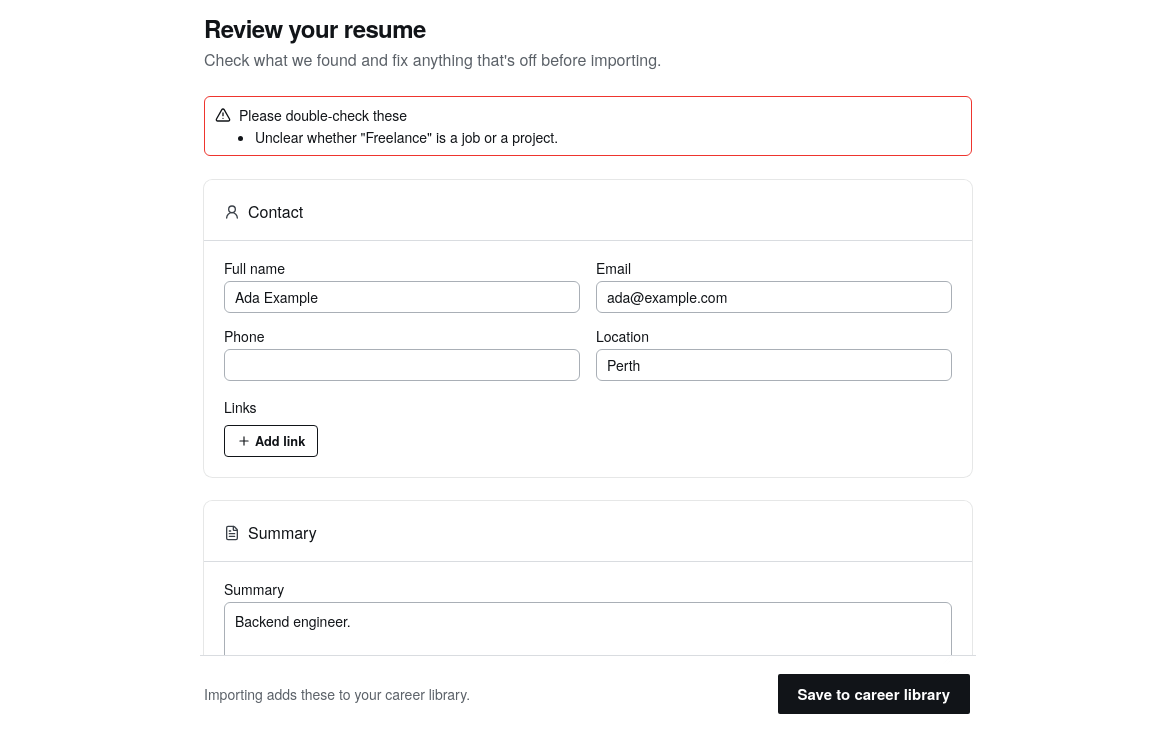
Test: imports the reviewed resume and opens the career library
The image size is (1164, 732).
Click the button "Save to career library" at (874, 694), box [776,672,972,716]
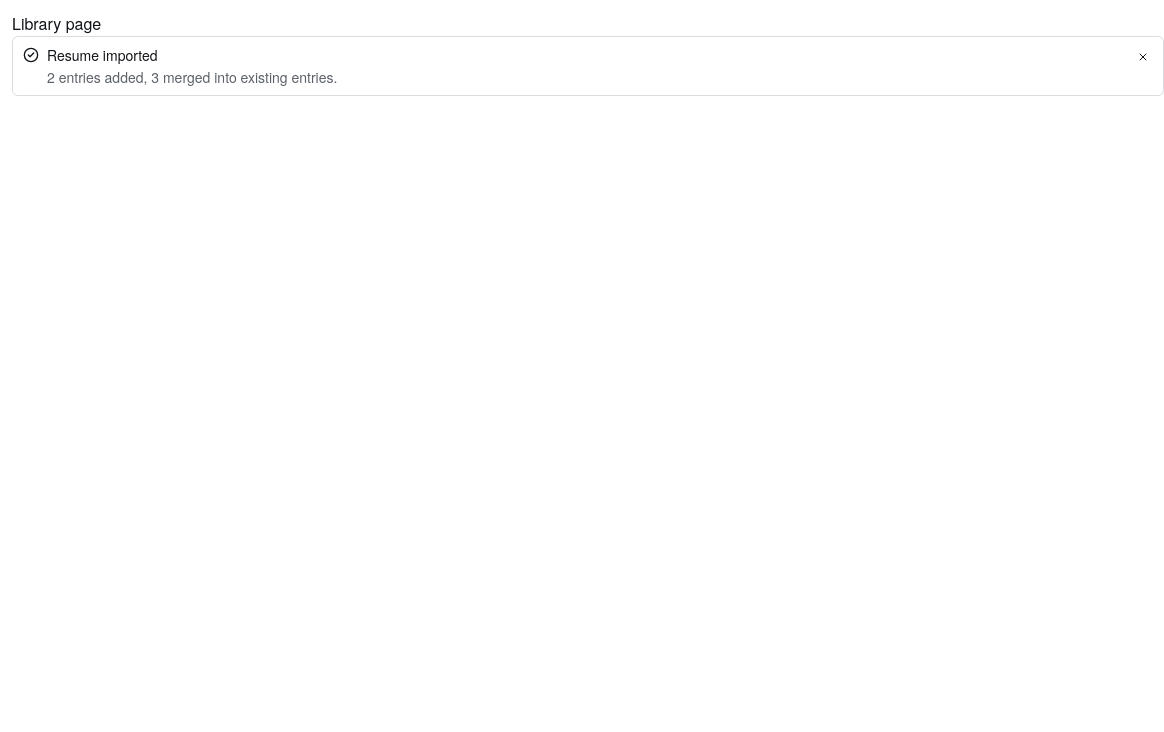
Expected: the text "Library page" is shown, [12,12,101,35]
Expected: the text "2 entries added, 3 merged into existing entries." is shown, [47,67,337,87]
